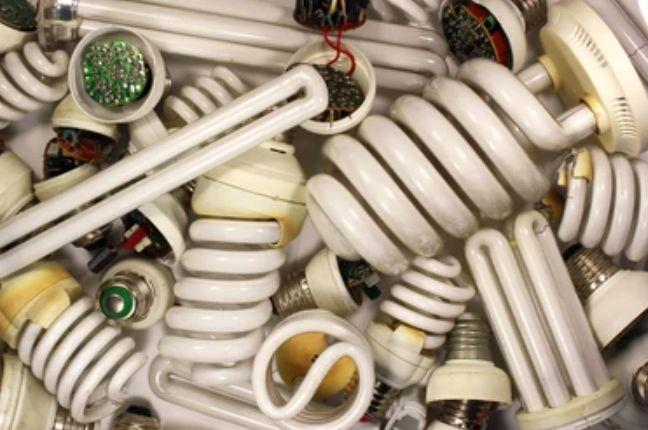light bulb: (303, 0, 648, 275), (0, 62, 333, 289), (155, 109, 302, 389), (0, 0, 456, 90), (468, 205, 632, 430), (0, 257, 150, 425), (364, 250, 480, 387), (553, 148, 648, 249), (0, 39, 74, 127)
